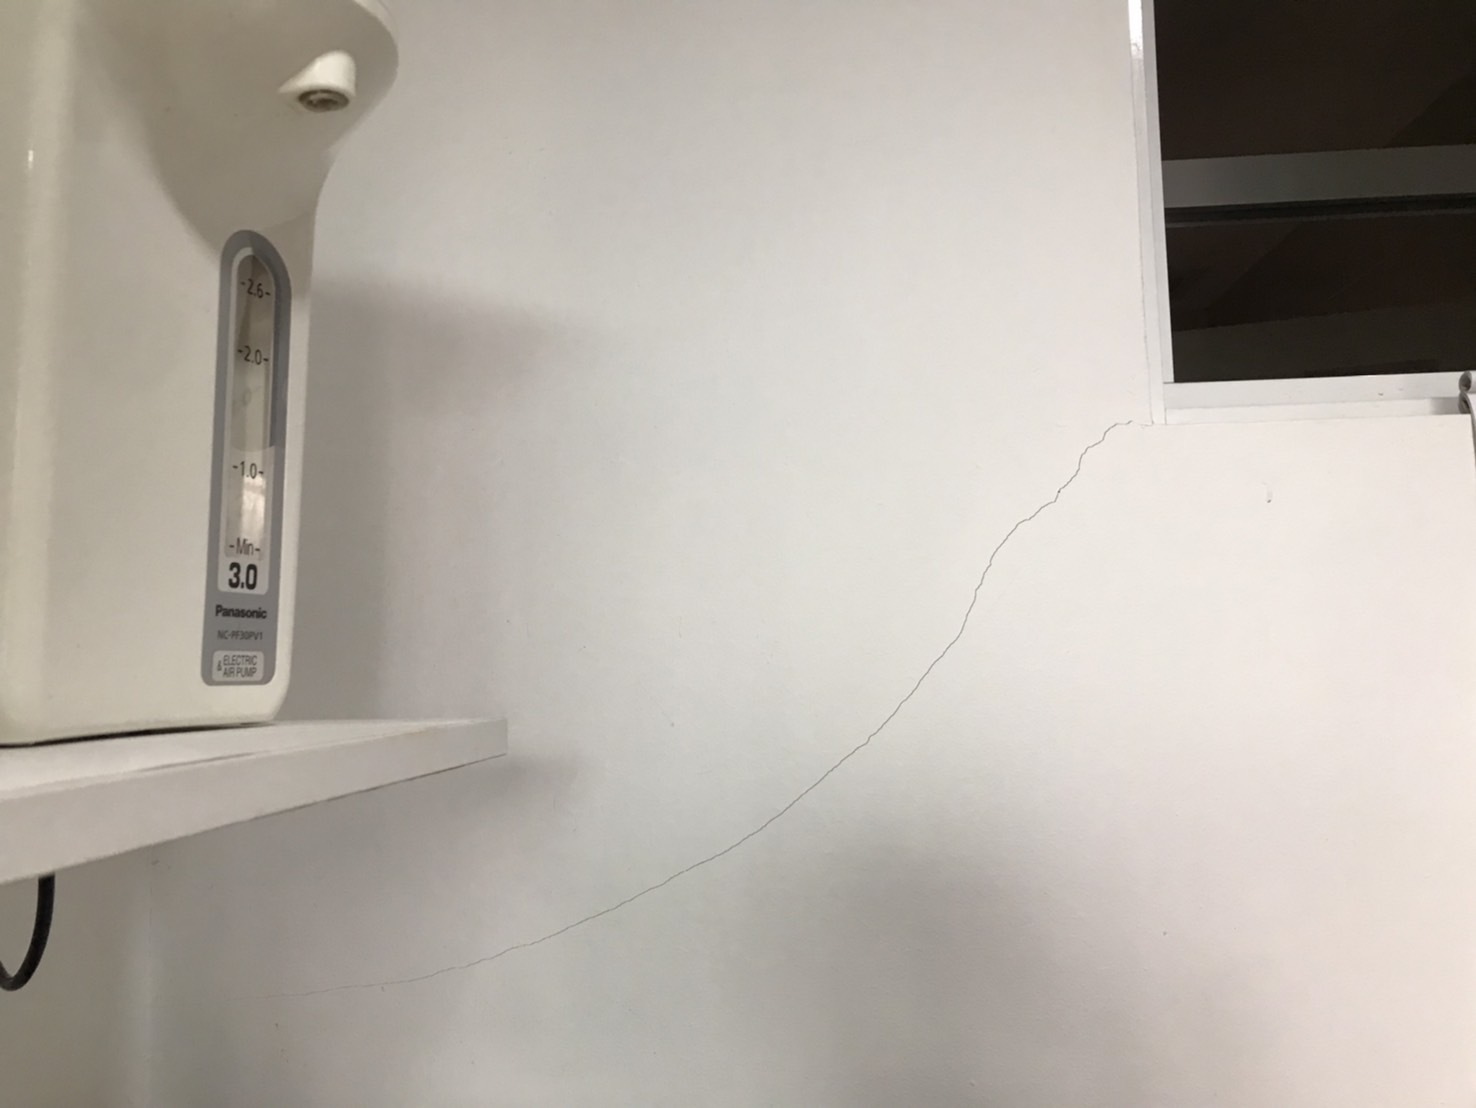Low: (180, 345, 1178, 1018)
